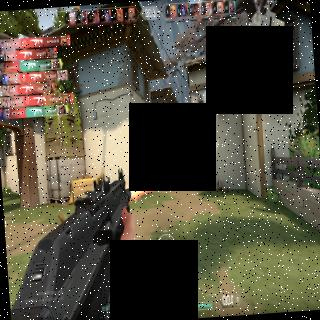ENEMY-BODY: (156, 148, 163, 165)
